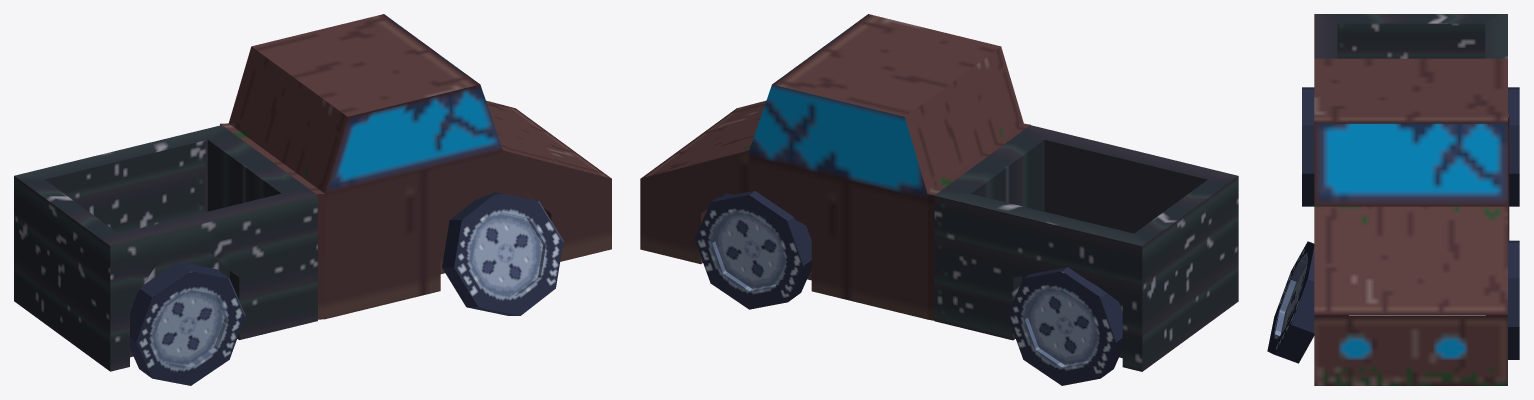
Rendered from Carro.fbx.
3 views of the same model, side by side, from view 1: azimuth 30°, elevation 25°; view 2: azimuth 150°, elevation 25°; view 3: azimuth 270°, elevation 25° (orthographic).
Parts seen in each view (by area): view 1: Carro; view 2: Carro; view 3: Carro.
Part boxes in pixels (x1,y1,x2,y2): Carro: [14, 14, 611, 385]; Carro: [640, 14, 1238, 385]; Carro: [1267, 14, 1519, 385].
Bounding box in the file's own units: 895 × 388 × 388.
